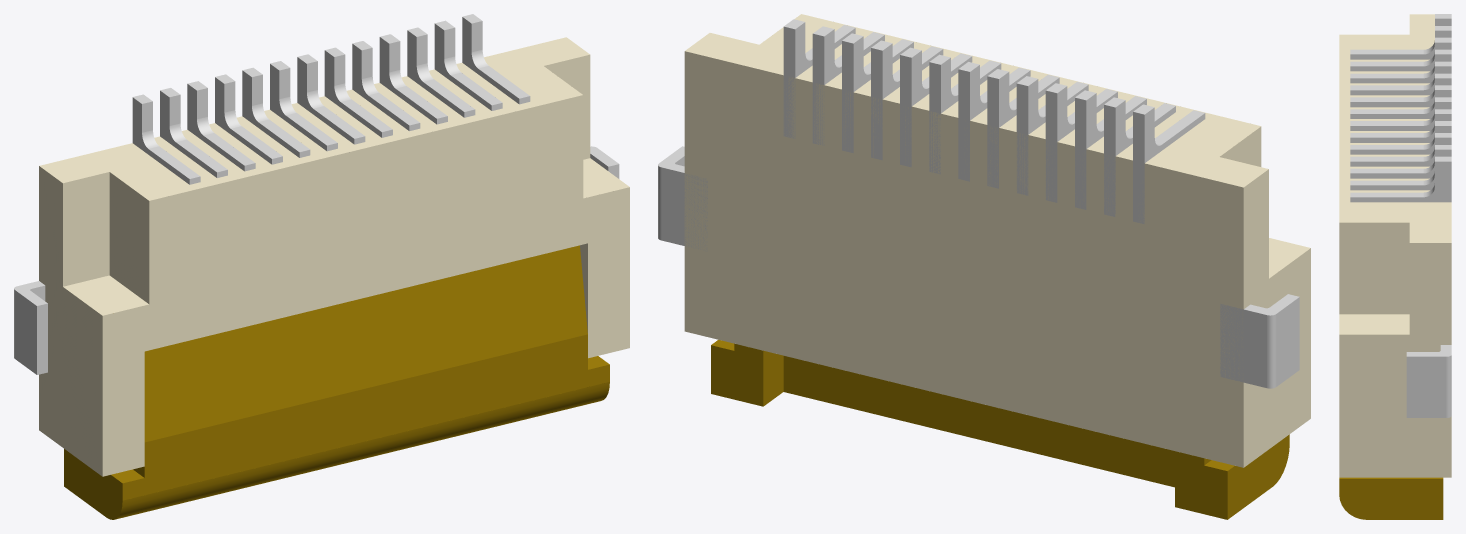
The model's file is Hirose_FH12-13S-0.5SH_1x13-1MP_P0.50mm_Horizontal.glb.
The picture shows the model from 3 angles, left to right: view 1: azimuth 30°, elevation 25°; view 2: azimuth 150°, elevation 25°; view 3: azimuth 270°, elevation 25°; orthographic projection. The views are drawn at different scales.
Visible parts, largest first — view 1: Shape_IndexedFaceSet.005, Shape_IndexedFaceSet.023, Shape_IndexedFaceSet.016, Shape_IndexedFaceSet, Shape_IndexedFaceSet.008, Shape_IndexedFaceSet.018, Shape_IndexedFaceSet.007, Shape_IndexedFaceSet.006, Shape_IndexedFaceSet.020, Shape_IndexedFaceSet.014, Shape_IndexedFaceSet.003, Shape_IndexedFaceSet.204 (+15 smaller); view 2: Shape_IndexedFaceSet.001, Shape_IndexedFaceSet.030, Shape_IndexedFaceSet, Shape_IndexedFaceSet.008, Shape_IndexedFaceSet.211, Shape_IndexedFaceSet.026, Shape_IndexedFaceSet.027, Shape_IndexedFaceSet.202, Shape_IndexedFaceSet.020, Shape_IndexedFaceSet.204, Shape_IndexedFaceSet.179, Shape_IndexedFaceSet.125 (+17 smaller); view 3: Shape_IndexedFaceSet.002, Shape_IndexedFaceSet, Shape_IndexedFaceSet.004, Shape_IndexedFaceSet.017, Shape_IndexedFaceSet.195, Shape_IndexedFaceSet.010, Shape_IndexedFaceSet.086, Shape_IndexedFaceSet.046, Shape_IndexedFaceSet.050, Shape_IndexedFaceSet.054, Shape_IndexedFaceSet.038, Shape_IndexedFaceSet.042 (+23 smaller).
Part boxes in pixels (box(x1,y1,x2,y2)): Shape_IndexedFaceSet.005: box(102, 95, 629, 476); Shape_IndexedFaceSet.023: box(144, 245, 587, 442); Shape_IndexedFaceSet.016: box(122, 334, 609, 500); Shape_IndexedFaceSet: box(39, 37, 589, 200); Shape_IndexedFaceSet.008: box(39, 166, 102, 476); Shape_IndexedFaceSet.018: box(115, 382, 609, 519); Shape_IndexedFaceSet.007: box(63, 172, 109, 286); Shape_IndexedFaceSet.006: box(109, 172, 149, 303); Shape_IndexedFaceSet.020: box(64, 449, 122, 519); Shape_IndexedFaceSet.014: box(63, 275, 148, 315); Shape_IndexedFaceSet.003: box(544, 54, 590, 159); Shape_IndexedFaceSet.204: box(15, 290, 36, 374); Shape_IndexedFaceSet.001: box(684, 51, 1243, 467); Shape_IndexedFaceSet.030: box(783, 356, 1174, 487); Shape_IndexedFaceSet: box(685, 14, 1268, 187); Shape_IndexedFaceSet.008: box(1243, 169, 1310, 467); Shape_IndexedFaceSet.211: box(1220, 304, 1266, 387); Shape_IndexedFaceSet.026: box(711, 343, 763, 406); Shape_IndexedFaceSet.027: box(1175, 451, 1227, 519); Shape_IndexedFaceSet.202: box(661, 167, 707, 251); Shape_IndexedFaceSet.020: box(1227, 434, 1289, 519); Shape_IndexedFaceSet.204: box(1276, 297, 1299, 386); Shape_IndexedFaceSet.179: box(783, 26, 795, 138); Shape_IndexedFaceSet.125: box(1045, 90, 1057, 202); Shape_IndexedFaceSet.002: box(1339, 243, 1451, 477); Shape_IndexedFaceSet: box(1339, 14, 1451, 242); Shape_IndexedFaceSet.004: box(1339, 222, 1409, 314); Shape_IndexedFaceSet.017: box(1339, 479, 1443, 519); Shape_IndexedFaceSet.195: box(1406, 356, 1446, 417); Shape_IndexedFaceSet.010: box(1339, 314, 1409, 334); Shape_IndexedFaceSet.086: box(1350, 161, 1451, 202); Shape_IndexedFaceSet.046: box(1350, 42, 1451, 83); Shape_IndexedFaceSet.050: box(1350, 54, 1451, 95); Shape_IndexedFaceSet.054: box(1350, 66, 1451, 107); Shape_IndexedFaceSet.038: box(1350, 18, 1451, 59); Shape_IndexedFaceSet.042: box(1350, 30, 1451, 71).
Size of the model in its own units: 4.17 by 2.52 by 0.7875.
